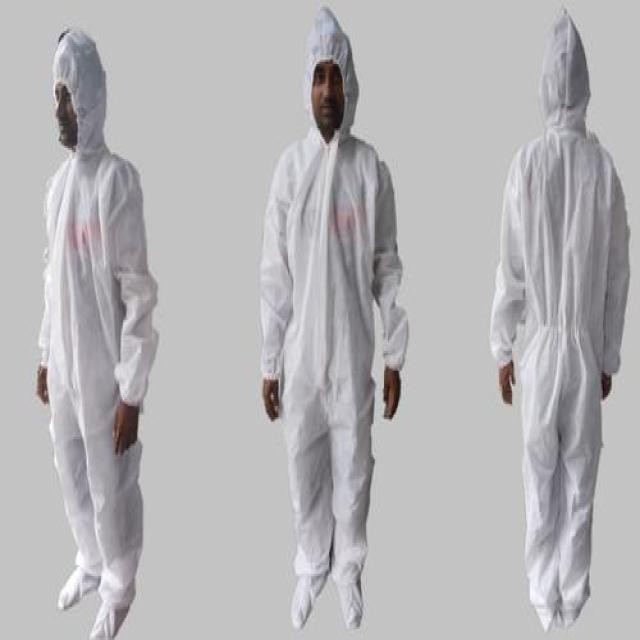Coverall: (257, 2, 411, 631), (489, 0, 633, 633), (37, 24, 161, 640)
